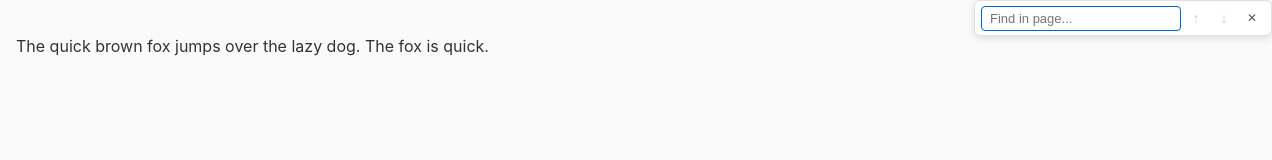
Test: FindBar › navigates to previous match on Previous button click
Type "fox" into the field with placeholder "Find in page..." at [1081, 18], box x1=981 y1=6 x2=1181 y2=30
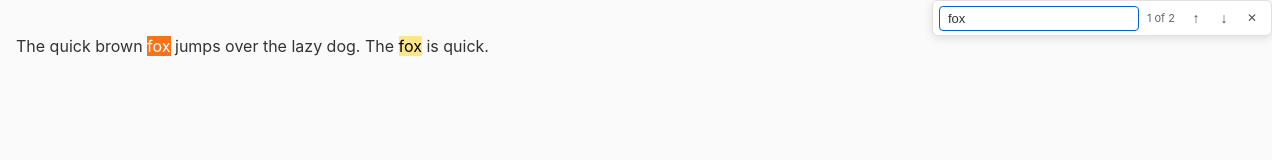
// Go to next first
Click the button named "Next match" at [1224, 18], box x1=1211 y1=5 x2=1237 y2=31
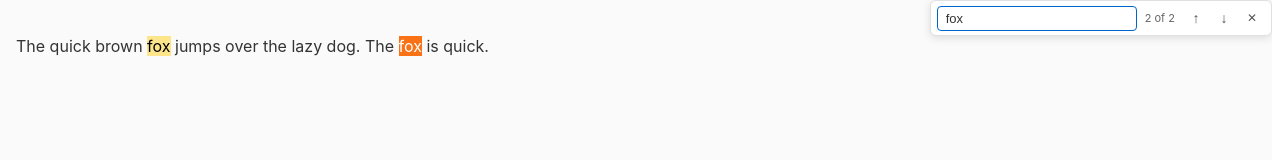
Check: the text "2 of 2" is shown, box x1=1145 y1=11 x2=1175 y2=25
// Now go back
Click the button named "Previous match" at [1196, 18], box x1=1183 y1=5 x2=1209 y2=31
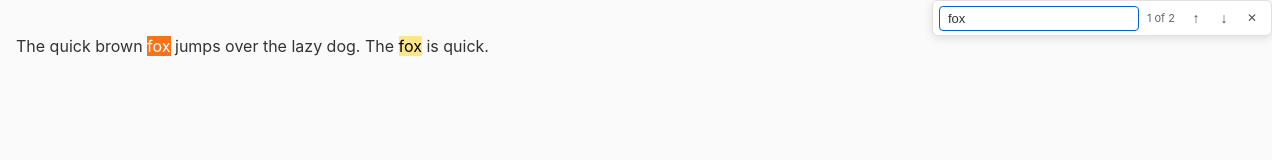
Check: the text "1 of 2" is shown, box x1=1147 y1=11 x2=1175 y2=25
